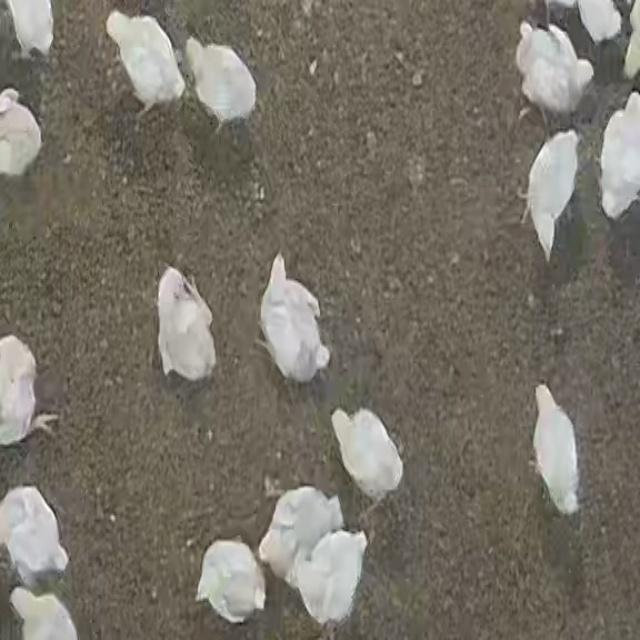chicken: (260, 256, 329, 386), (260, 487, 345, 588), (106, 10, 186, 116), (516, 18, 594, 126), (290, 526, 370, 630), (523, 130, 581, 262), (0, 486, 71, 593), (157, 265, 216, 384), (331, 408, 404, 503), (186, 38, 256, 130), (532, 383, 580, 515), (196, 538, 266, 625), (600, 91, 640, 219)
